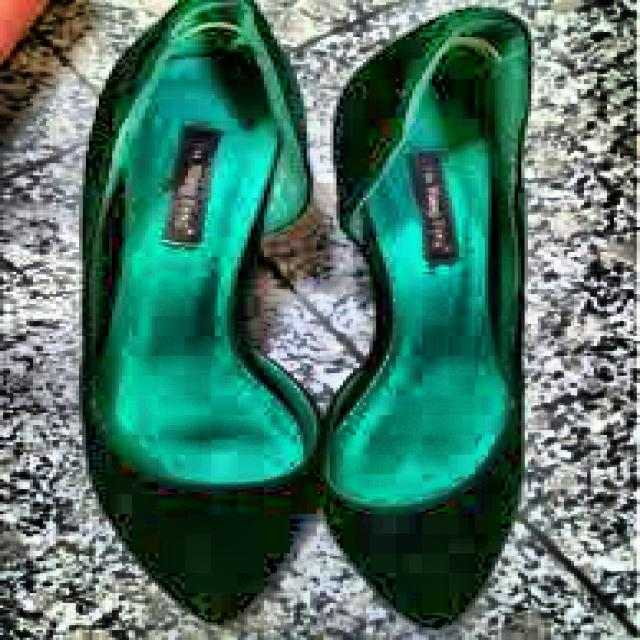shoes: (68, 3, 575, 640)
